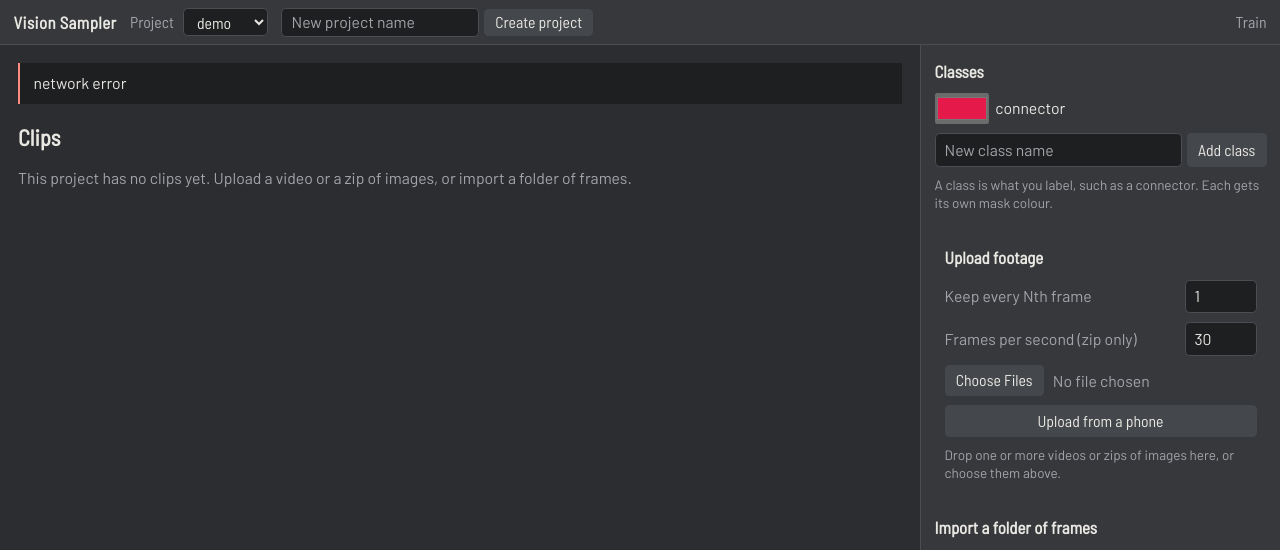
Test: Clips page › clears a load error once a later load succeeds
Check: the text "network error" is shown, box [18,63,902,104]
Select "second" in the dropdown labelled "Project" at (226, 22), box [183,8,268,36]
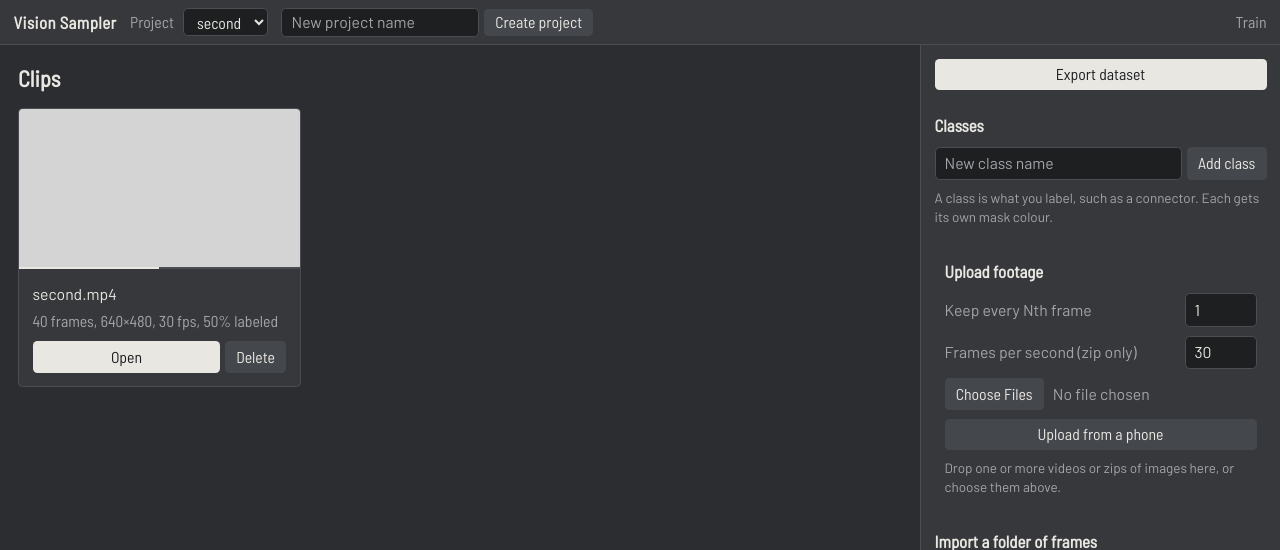
Check: the text "second.mp4" is shown, box [32,284,117,303]
Check: the text "network error" is gone
